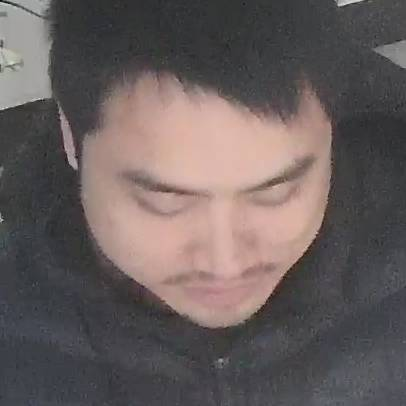mg: (48, 39, 353, 344)
